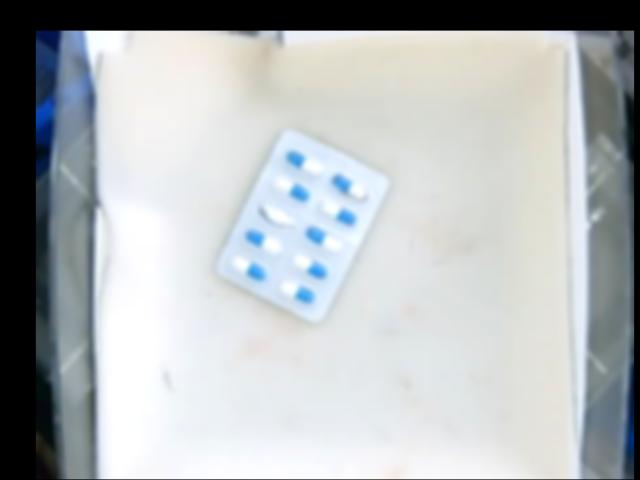Medicine: (216, 131, 392, 324)
